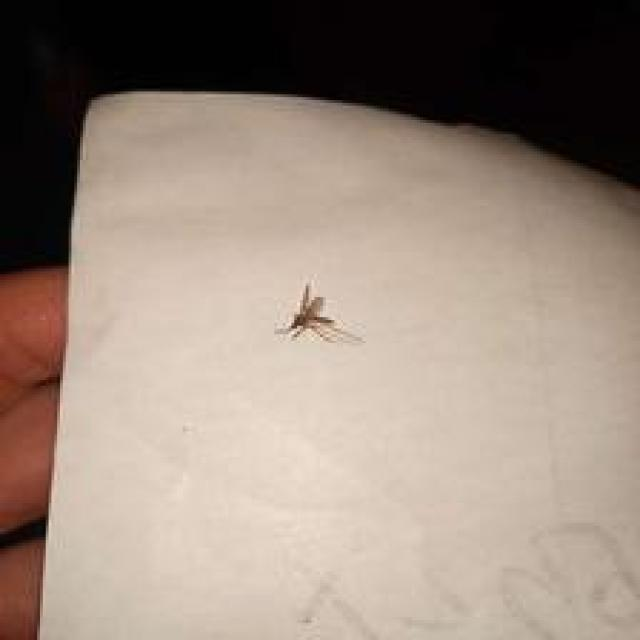Culex: (273, 282, 364, 347)
